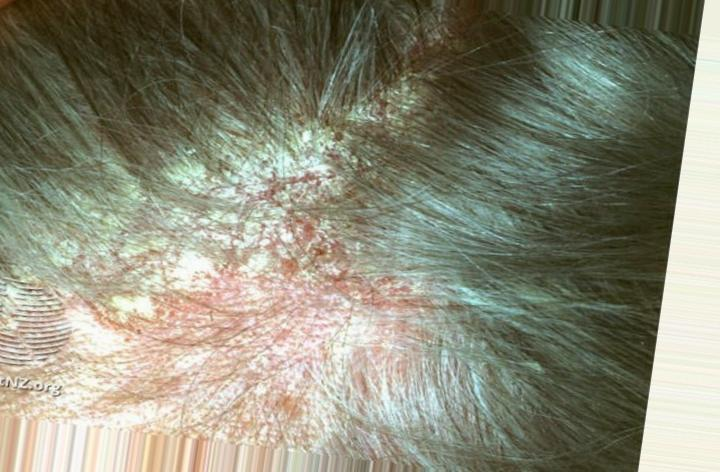Contact Dermatitis: (75, 76, 439, 423)
